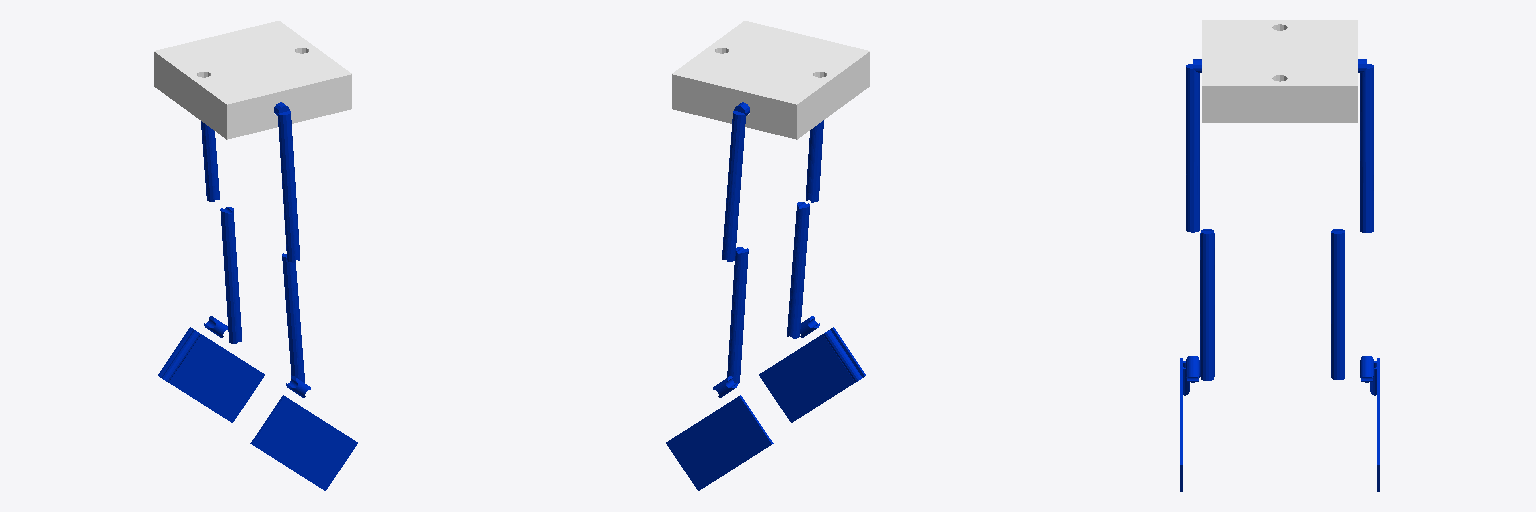
The robot description file, URDF, robot "Utah":
<?xml version="1.0" encoding="utf-8"?>
<!-- This URDF was automatically created by SolidWorks to URDF Exporter! Originally created by [author] ([email redacted]) 
     Commit Version: 1.5.0-0-g9aa0fdb  Build Version: 1.5.7004.21443
     For more information, please see http://wiki.ros.org/sw_urdf_exporter -->
<robot
  name="Utah">
  <link
    name="base_link">
    <inertial>
      <origin
        xyz="0.00122383806382909 -3.26638889688532E-17 0.0659595203814596"
        rpy="0 0 0" />
      <mass
        value="244.9329927506" />
      <inertia
        ixx="5.55262025860006"
        ixy="8.98736350063565E-16"
        ixz="-0.000394714970341267"
        iyy="5.44179501990665"
        iyz="-2.98545972908452E-16"
        izz="10.2631638380994" />
    </inertial>
    <visual>
      <origin
        xyz="0 0 0"
        rpy="0 0 0" />
      <geometry>
        <mesh
          filename="package://Utah/meshes/base_link.STL" />
      </geometry>
      <material
        name="">
        <color
          rgba="1 1 1 1" />
      </material>
    </visual>
    <collision>
      <origin
        xyz="0 0 0"
        rpy="0 0 0" />
      <geometry>
        <mesh
          filename="package://Utah/meshes/base_link.STL" />
      </geometry>
    </collision>
  </link>
  <link
    name="Femur_L">
    <inertial>
      <origin
        xyz="0.242203107830059 -0.00284577498225344 0.0924919582228952"
        rpy="0 0 0" />
      <mass
        value="1.0956267569314" />
      <inertia
        ixx="0.000770809917908148"
        ixy="0.000413272308722676"
        ixz="-0.00199415247363703"
        iyy="0.0359395923546767"
        iyz="2.34305677777083E-05"
        izz="0.0354701341892382" />
    </inertial>
    <visual>
      <origin
        xyz="0 0 0"
        rpy="0 0 0" />
      <geometry>
        <mesh
          filename="package://Utah/meshes/Femur_L.STL" />
      </geometry>
      <material
        name="">
        <color
          rgba="0.00784313725490196 0.23921568627451 0.823529411764706 1" />
      </material>
    </visual>
    <collision>
      <origin
        xyz="0 0 0"
        rpy="0 0 0" />
      <geometry>
        <mesh
          filename="package://Utah/meshes/Femur_L.STL" />
      </geometry>
    </collision>
  </link>
  <joint
    name="Hip_femur_L"
    type="continuous">
    <origin
      xyz="-0.0385868696304645 0.18 0.0672852031451373"
      rpy="-1.5707963267949 1.50458688118117 0" />
    <parent
      link="base_link" />
    <child
      link="Femur_L" />
    <axis
      xyz="0 0 1" />
    <safety_controller
      k_velocity="0" />
  </joint>
  <link
    name="Tibia_L">
    <inertial>
      <origin
        xyz="0.261668636750511 -0.00305413840682148 -0.023999999127617"
        rpy="0 0 0" />
      <mass
        value="0.837833351696081" />
      <inertia
        ixx="0.000224729291285804"
        ixy="0.000203159080373753"
        ixz="8.62500209468083E-10"
        iyy="0.0175133040900648"
        iyz="1.47446822077673E-11"
        izz="0.0175171715862385" />
    </inertial>
    <visual>
      <origin
        xyz="0 0 0"
        rpy="0 0 0" />
      <geometry>
        <mesh
          filename="package://Utah/meshes/Tibia_L.STL" />
      </geometry>
      <material
        name="">
        <color
          rgba="0.00784313725490196 0.23921568627451 0.823529411764706 1" />
      </material>
    </visual>
    <collision>
      <origin
        xyz="0 0 0"
        rpy="0 0 0" />
      <geometry>
        <mesh
          filename="package://Utah/meshes/Tibia_L.STL" />
      </geometry>
    </collision>
  </link>
  <joint
    name="Femur_tibia_L"
    type="continuous">
    <origin
      xyz="0.557961346760059 -0.00655865516646524 0.0770000001743604"
      rpy="0 0 -0.00193315362723463" />
    <parent
      link="Femur_L" />
    <child
      link="Tibia_L" />
    <axis
      xyz="0 0 -1" />
    <safety_controller
      k_velocity="0" />
  </joint>
  <link
    name="Tarsa_L">
    <inertial>
      <origin
        xyz="0.0302857093798252 -0.00810522006820646 0.070000040207787"
        rpy="0 0 0" />
      <mass
        value="0.101531888424101" />
      <inertia
        ixx="2.83277886698444E-05"
        ixy="2.16015495486525E-07"
        ixz="6.83242656240328E-12"
        iyy="4.67036221075616E-05"
        iyz="6.07677246942435E-12"
        izz="4.96436344707768E-05" />
    </inertial>
    <visual>
      <origin
        xyz="0 0 0"
        rpy="0 0 0" />
      <geometry>
        <mesh
          filename="package://Utah/meshes/Tarsa_L.STL" />
      </geometry>
      <material
        name="">
        <color
          rgba="0.00784313725490196 0.23921568627451 0.823529411764706 1" />
      </material>
    </visual>
    <collision>
      <origin
        xyz="0 0 0"
        rpy="0 0 0" />
      <geometry>
        <mesh
          filename="package://Utah/meshes/Tarsa_L.STL" />
      </geometry>
    </collision>
  </link>
  <joint
    name="Tibia_tarsa_L"
    type="continuous">
    <origin
      xyz="0.507031720085334 -0.00595264631811062 -0.0469999948873179"
      rpy="0 0 2.35013161415813" />
    <parent
      link="Tibia_L" />
    <child
      link="Tarsa_L" />
    <axis
      xyz="0 0 -1" />
    <safety_controller
      k_velocity="0" />
  </joint>
  <link
    name="Foot_L">
    <inertial>
      <origin
        xyz="-0.134046955227231 -0.0400232687764869 -0.149551845220791"
        rpy="0 0 0" />
      <mass
        value="0.834771497095713" />
      <inertia
        ixx="0.00329402342120859"
        ixy="-0.00225499866549155"
        ixz="4.00642090430917E-10"
        iyy="0.0132217193918293"
        iyz="2.89352006803828E-10"
        izz="0.0109505994990664" />
    </inertial>
    <visual>
      <origin
        xyz="0 0 0"
        rpy="0 0 0" />
      <geometry>
        <mesh
          filename="package://Utah/meshes/Foot_L.STL" />
      </geometry>
      <material
        name="">
        <color
          rgba="0.00784313725490196 0.23921568627451 0.823529411764706 1" />
      </material>
    </visual>
    <collision>
      <origin
        xyz="0 0 0"
        rpy="0 0 0" />
      <geometry>
        <mesh
          filename="package://Utah/meshes/Foot_L.STL" />
      </geometry>
    </collision>
  </link>
  <joint
    name="Tarsa_foot_L"
    type="continuous">
    <origin
      xyz="0.0545835119848165 -0.00841169146295107 0.0929999850227678"
      rpy="0 0 -0.0126879406929578" />
    <parent
      link="Tarsa_L" />
    <child
      link="Foot_L" />
    <axis
      xyz="0 0 0.999999999999996" />
    <safety_controller
      k_velocity="0" />
  </joint>
  <link
    name="Femur_R">
    <inertial>
      <origin
        xyz="0.242203107594868 -0.00284577821776226 -0.0924919582317857"
        rpy="0 0 0" />
      <mass
        value="1.09562675424786" />
      <inertia
        ixx="0.000770809907869585"
        ixy="0.000413271827180529"
        ixz="0.00199415248143469"
        iyy="0.0359395923291157"
        iyz="-2.34302735430893E-05"
        izz="0.0354701341468065" />
    </inertial>
    <visual>
      <origin
        xyz="0 0 0"
        rpy="0 0 0" />
      <geometry>
        <mesh
          filename="package://Utah/meshes/Femur_R.STL" />
      </geometry>
      <material
        name="">
        <color
          rgba="0.00784313725490196 0.23921568627451 0.823529411764706 1" />
      </material>
    </visual>
    <collision>
      <origin
        xyz="0 0 0"
        rpy="0 0 0" />
      <geometry>
        <mesh
          filename="package://Utah/meshes/Femur_R.STL" />
      </geometry>
    </collision>
  </link>
  <joint
    name="Hips_femur_R"
    type="continuous">
    <origin
      xyz="-0.0385868696304645 -0.18 0.0672852031451373"
      rpy="-1.5707963267949 1.50458688118117 0" />
    <parent
      link="base_link" />
    <child
      link="Femur_R" />
    <axis
      xyz="0 0 1" />
    <safety_controller
      k_velocity="0" />
  </joint>
  <link
    name="Tibia_R">
    <inertial>
      <origin
        xyz="-0.261668641621138 -0.00305415187488046 -0.0239999993678786"
        rpy="0 0 0" />
      <mass
        value="0.837833381982962" />
      <inertia
        ixx="0.000224729299568724"
        ixy="-0.000203161324382621"
        ixz="-9.6231507005878E-10"
        iyy="0.0175133046826421"
        iyz="-6.79629889802033E-11"
        izz="0.0175171721226335" />
    </inertial>
    <visual>
      <origin
        xyz="0 0 0"
        rpy="0 0 0" />
      <geometry>
        <mesh
          filename="package://Utah/meshes/Tibia_R.STL" />
      </geometry>
      <material
        name="">
        <color
          rgba="0.00784313725490196 0.23921568627451 0.823529411764706 1" />
      </material>
    </visual>
    <collision>
      <origin
        xyz="0 0 0"
        rpy="0 0 0" />
      <geometry>
        <mesh
          filename="package://Utah/meshes/Tibia_R.STL" />
      </geometry>
    </collision>
  </link>
  <joint
    name="Femur_tibia_R"
    type="continuous">
    <origin
      xyz="0.557961346760059 -0.00655865516646524 -0.0770000001743603"
      rpy="3.14159265358979 0 3.13965949996256" />
    <parent
      link="Femur_R" />
    <child
      link="Tibia_R" />
    <axis
      xyz="0 0 -1" />
    <safety_controller
      k_velocity="0" />
  </joint>
  <link
    name="Tarsa_R">
    <inertial>
      <origin
        xyz="0.0302857093798253 -0.00810522006820635 -0.0700000402077869"
        rpy="0 0 0" />
      <mass
        value="0.1015318884241" />
      <inertia
        ixx="2.83277886698443E-05"
        ixy="2.16015495486543E-07"
        ixz="-6.8324266020776E-12"
        iyy="4.67036221075615E-05"
        iyz="-6.07677249587479E-12"
        izz="4.96436344707768E-05" />
    </inertial>
    <visual>
      <origin
        xyz="0 0 0"
        rpy="0 0 0" />
      <geometry>
        <mesh
          filename="package://Utah/meshes/Tarsa_R.STL" />
      </geometry>
      <material
        name="">
        <color
          rgba="0.00784313725490196 0.23921568627451 0.823529411764706 1" />
      </material>
    </visual>
    <collision>
      <origin
        xyz="0 0 0"
        rpy="0 0 0" />
      <geometry>
        <mesh
          filename="package://Utah/meshes/Tarsa_R.STL" />
      </geometry>
    </collision>
  </link>
  <joint
    name="Tibia_tarsa_R"
    type="continuous">
    <origin
      xyz="-0.507031720085334 -0.00595264631811062 -0.0469999948873179"
      rpy="3.14159265358979 0 0.791461039431664" />
    <parent
      link="Tibia_R" />
    <child
      link="Tarsa_R" />
    <axis
      xyz="0 0 1" />
    <safety_controller
      k_velocity="0" />
  </joint>
  <link
    name="Foot_R">
    <inertial>
      <origin
        xyz="-0.134046955227231 -0.0400232687764865 0.149551845220791"
        rpy="0 0 0" />
      <mass
        value="0.834771497095712" />
      <inertia
        ixx="0.00329402342120859"
        ixy="-0.00225499866549155"
        ixz="-4.00642090638541E-10"
        iyy="0.0132217193918293"
        iyz="-2.89352007979106E-10"
        izz="0.0109505994990664" />
    </inertial>
    <visual>
      <origin
        xyz="0 0 0"
        rpy="0 0 0" />
      <geometry>
        <mesh
          filename="package://Utah/meshes/Foot_R.STL" />
      </geometry>
      <material
        name="">
        <color
          rgba="0.00784313725490196 0.23921568627451 0.823529411764706 1" />
      </material>
    </visual>
    <collision>
      <origin
        xyz="0 0 0"
        rpy="0 0 0" />
      <geometry>
        <mesh
          filename="package://Utah/meshes/Foot_R.STL" />
      </geometry>
    </collision>
  </link>
  <joint
    name="Tarsa_foot_R"
    type="continuous">
    <origin
      xyz="0.0545835119848167 -0.00841169146295095 -0.0929999850227678"
      rpy="0 0 -0.0126879406929579" />
    <parent
      link="Tarsa_R" />
    <child
      link="Foot_R" />
    <axis
      xyz="0 0 -0.999999999999996" />
    <safety_controller
      k_velocity="0" />
  </joint>
</robot>

--- Render facts (derived) ---
Views: 3 orthographic renders of the robot side by side, from view 1: azimuth 30°, elevation 25°; view 2: azimuth 150°, elevation 25°; view 3: azimuth 270°, elevation 25°.
Model Utah with 9 links and 8 joints (8 continuous), rooted at base_link, posed all joints at 0.
Visible links, largest first — view 1: base_link, Foot_L, Foot_R, Femur_R, Tibia_L, Tibia_R, Femur_L; view 2: base_link, Foot_R, Foot_L, Femur_L, Tibia_R, Tibia_L, Femur_R; view 3: base_link, Femur_L, Femur_R, Tibia_R, Tibia_L, Foot_L, Foot_R.
Boxes of the visible links, <box> form: base_link: <box>154,21,351,139</box>; Foot_L: <box>158,327,264,422</box>; Foot_R: <box>250,395,357,490</box>; Femur_R: <box>274,102,299,262</box>; Tibia_L: <box>220,207,241,343</box>; Tibia_R: <box>282,253,304,382</box>; Femur_L: <box>201,121,219,201</box>; base_link: <box>672,21,869,139</box>; Foot_R: <box>759,327,865,422</box>; Foot_L: <box>666,395,773,490</box>; Femur_L: <box>722,102,749,261</box>; Tibia_R: <box>787,202,809,338</box>; Tibia_L: <box>727,247,748,383</box>; Femur_R: <box>806,120,823,202</box>; base_link: <box>1202,20,1357,122</box>; Femur_L: <box>1358,59,1373,232</box>; Femur_R: <box>1186,59,1201,232</box>; Tibia_R: <box>1200,229,1214,380</box>; Tibia_L: <box>1331,229,1344,379</box>; Foot_L: <box>1370,358,1379,491</box>; Foot_R: <box>1180,358,1189,491</box>.
Bounding box of the posed robot: 0.495 × 0.6445 × 1.51 m (x, y, z).
9 mesh visuals loaded from 9 distinct referenced files (9 binary STL).